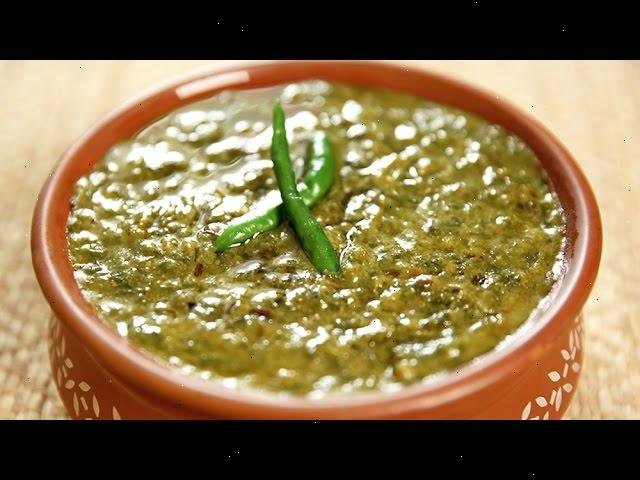saag: (72, 89, 564, 396)
